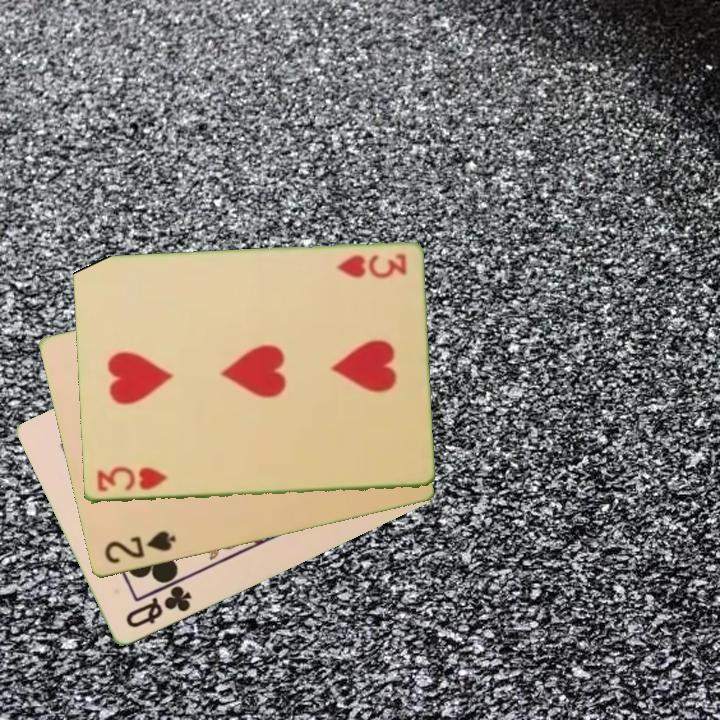2s: (100, 528, 179, 567)
3h: (93, 464, 170, 495), (332, 250, 409, 281)
Qc: (121, 582, 195, 632)
